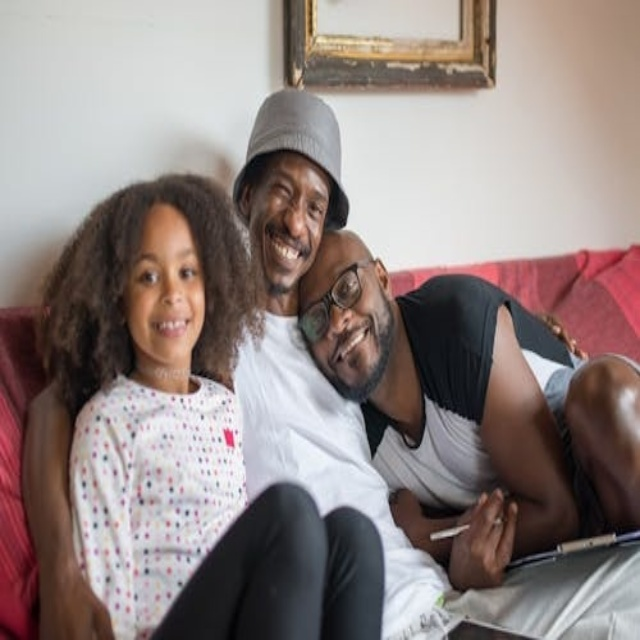Gafas: (296, 251, 372, 353)
Sin_gafas: (268, 161, 329, 222), (127, 247, 198, 293)
Sin_guantes: (444, 481, 524, 588)
Sin_mascara: (329, 310, 378, 395), (141, 303, 197, 362), (264, 226, 303, 287)
